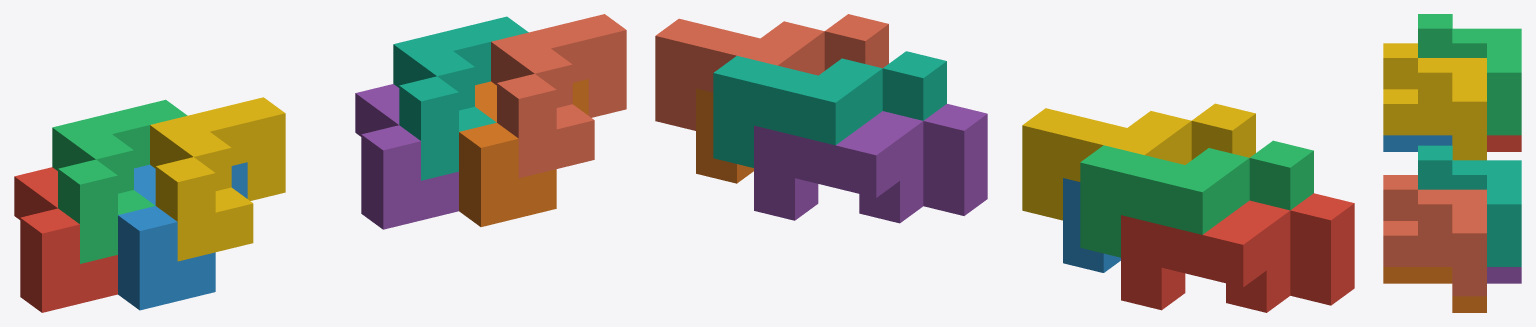
Rendered from tiling.obj.
The picture shows the model from 3 angles, left to right: view 1: azimuth 30°, elevation 25°; view 2: azimuth 150°, elevation 25°; view 3: azimuth 270°, elevation 25°; orthographic projection. The views are drawn at different scales.
Parts seen in each view (by area): view 1: copy_1_domain_4, copy_1_domain_8, copy_1_domain_7, copy_1_domain_3, copy_1_domain_5, copy_1_domain_1, copy_1_domain_2, copy_1_domain_6; view 2: copy_1_domain_5, copy_1_domain_1, copy_1_domain_3, copy_1_domain_7, copy_1_domain_8, copy_1_domain_4, copy_1_domain_6, copy_1_domain_2; view 3: copy_1_domain_8, copy_1_domain_4, copy_1_domain_3, copy_1_domain_7, copy_1_domain_6, copy_1_domain_2, copy_1_domain_1, copy_1_domain_5.
Part boxes in pixels (box(x1,y1,x2,y2)): copy_1_domain_4: box(150, 97, 285, 261); copy_1_domain_8: box(491, 14, 626, 178); copy_1_domain_7: box(393, 16, 528, 180); copy_1_domain_3: box(52, 99, 187, 263); copy_1_domain_5: box(355, 84, 458, 229); copy_1_domain_1: box(14, 167, 117, 312); copy_1_domain_2: box(118, 162, 247, 310); copy_1_domain_6: box(459, 79, 588, 226); copy_1_domain_5: box(754, 104, 987, 223); copy_1_domain_1: box(1121, 193, 1354, 312); copy_1_domain_3: box(1080, 140, 1313, 257); copy_1_domain_7: box(713, 51, 946, 167); copy_1_domain_8: box(655, 14, 888, 130); copy_1_domain_4: box(1022, 103, 1255, 220); copy_1_domain_6: box(696, 88, 753, 183); copy_1_domain_2: box(1063, 178, 1120, 272); copy_1_domain_8: box(1383, 175, 1486, 296); copy_1_domain_4: box(1383, 43, 1486, 160); copy_1_domain_3: box(1418, 14, 1521, 135); copy_1_domain_7: box(1418, 145, 1521, 266); copy_1_domain_6: box(1383, 267, 1486, 312); copy_1_domain_2: box(1383, 135, 1452, 151); copy_1_domain_1: box(1487, 135, 1521, 151); copy_1_domain_5: box(1487, 267, 1521, 283).
Bounding box in the file's own units: 16 × 3 × 4.
